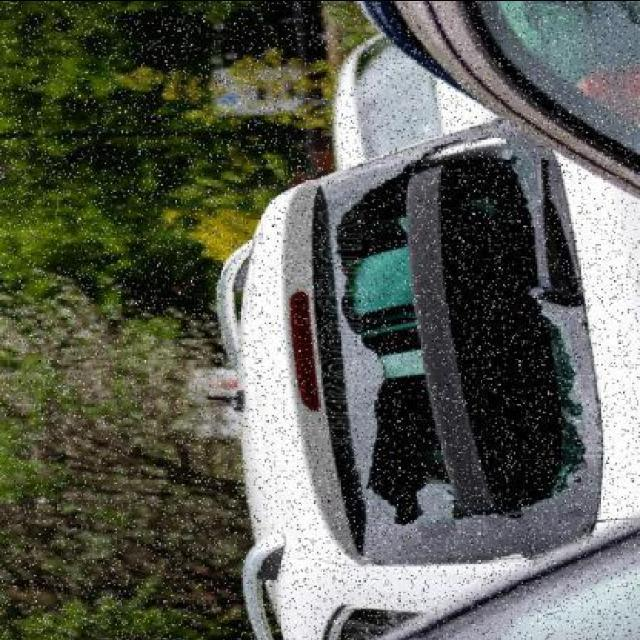Rear-windscreen-Damage: (248, 146, 639, 552)
